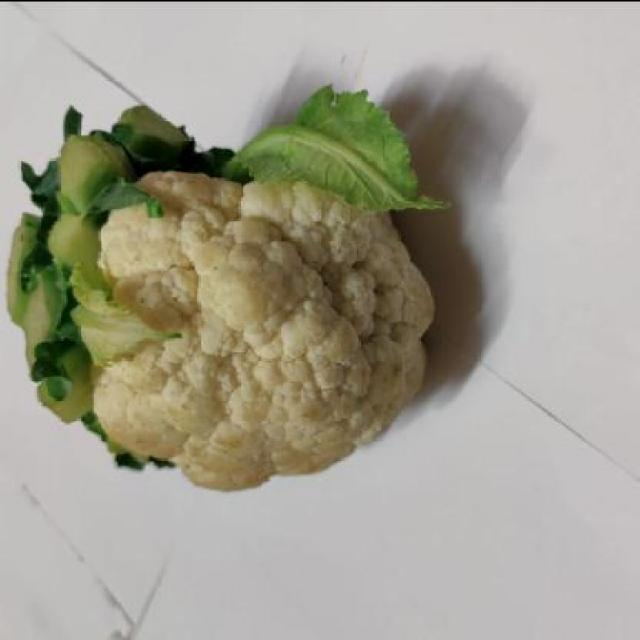Cauliflower: (8, 65, 450, 492)
